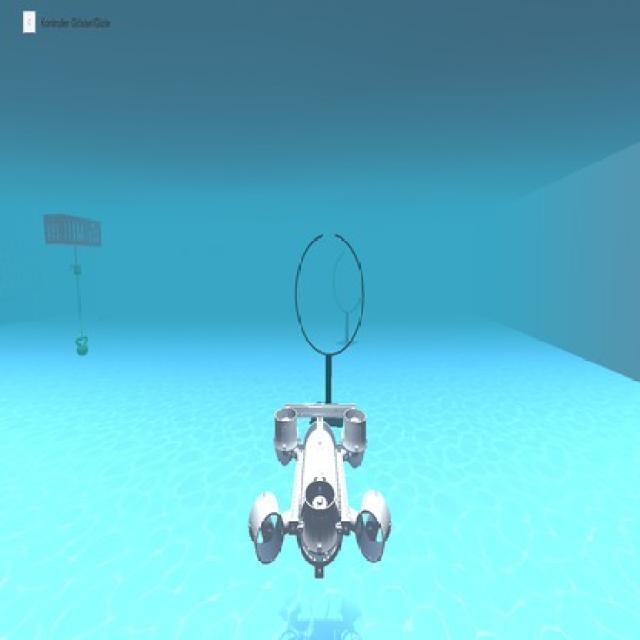Circle: (291, 228, 371, 364)
